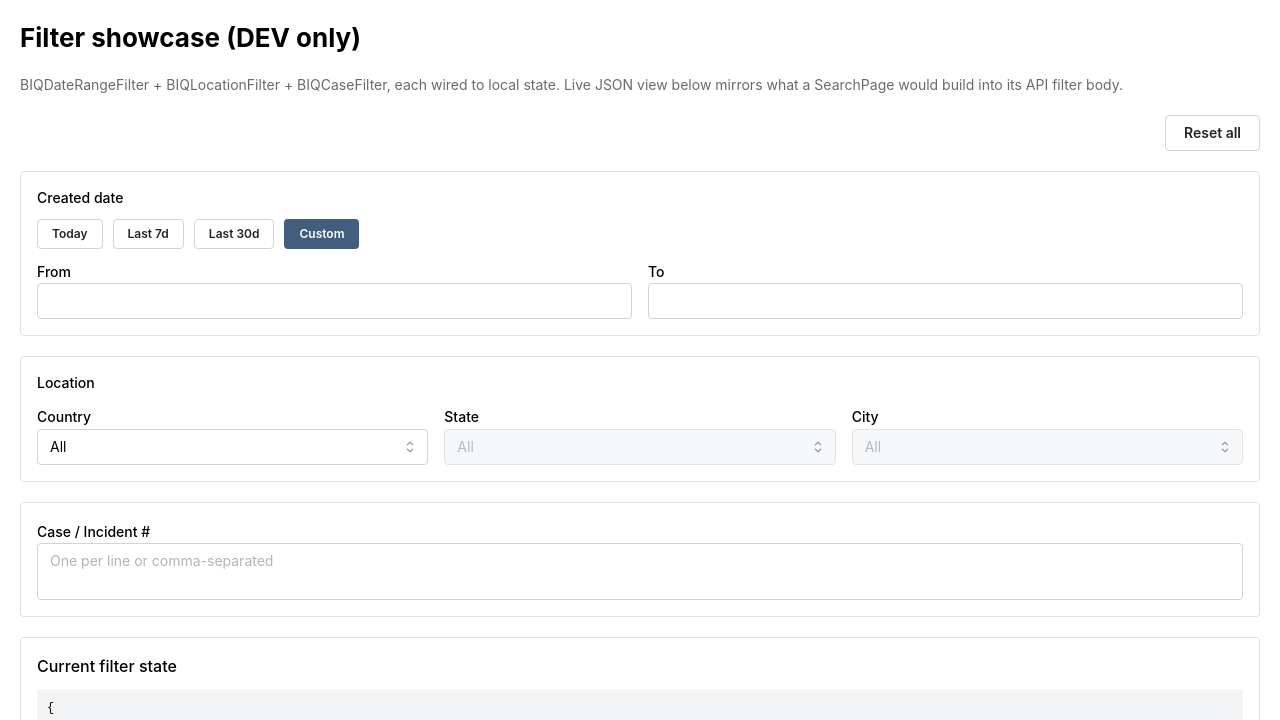
Filter showcase — 9 scenarios › BIQLocationFilter › reset clears location back to all nulls
The width and height of the screenshot is (1280, 720).
Select "United States" in the dropdown with test id "biq-location-country" at (233, 447), box [37,429,428,465]
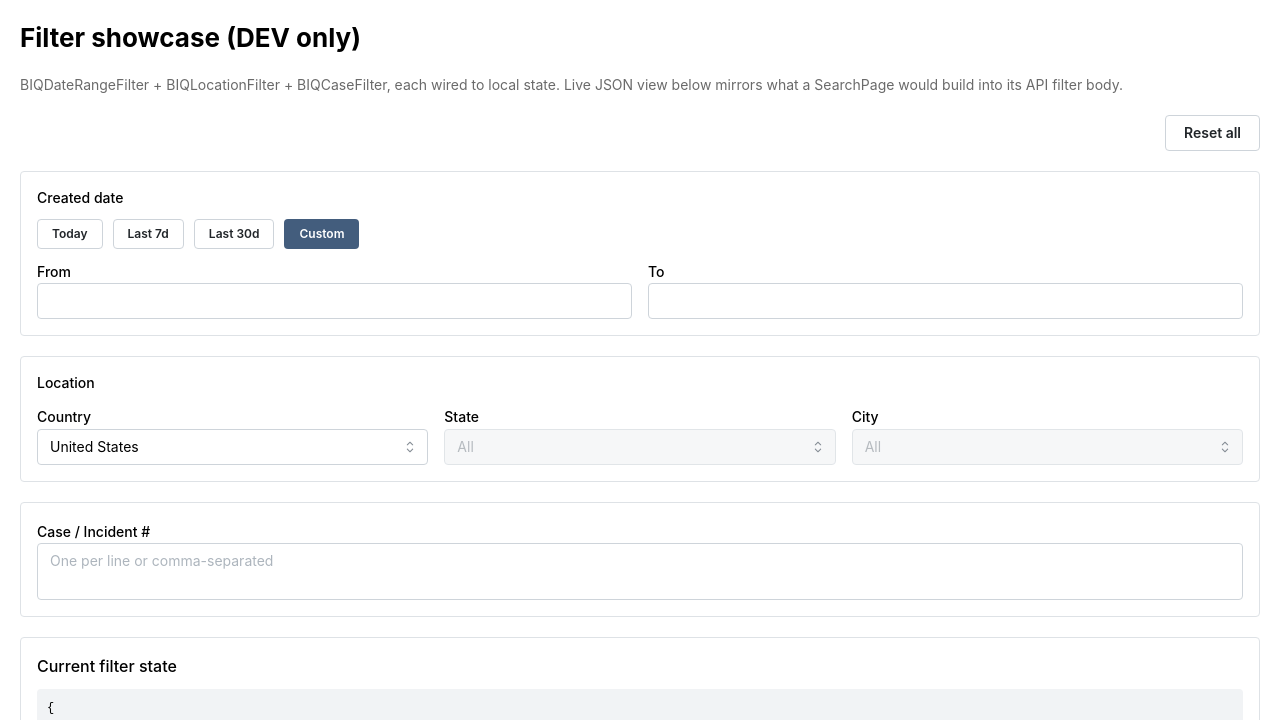
Click the button with test id "filter-showcase-reset" at (1212, 133), box [1165,115,1260,151]
(page scrolled)
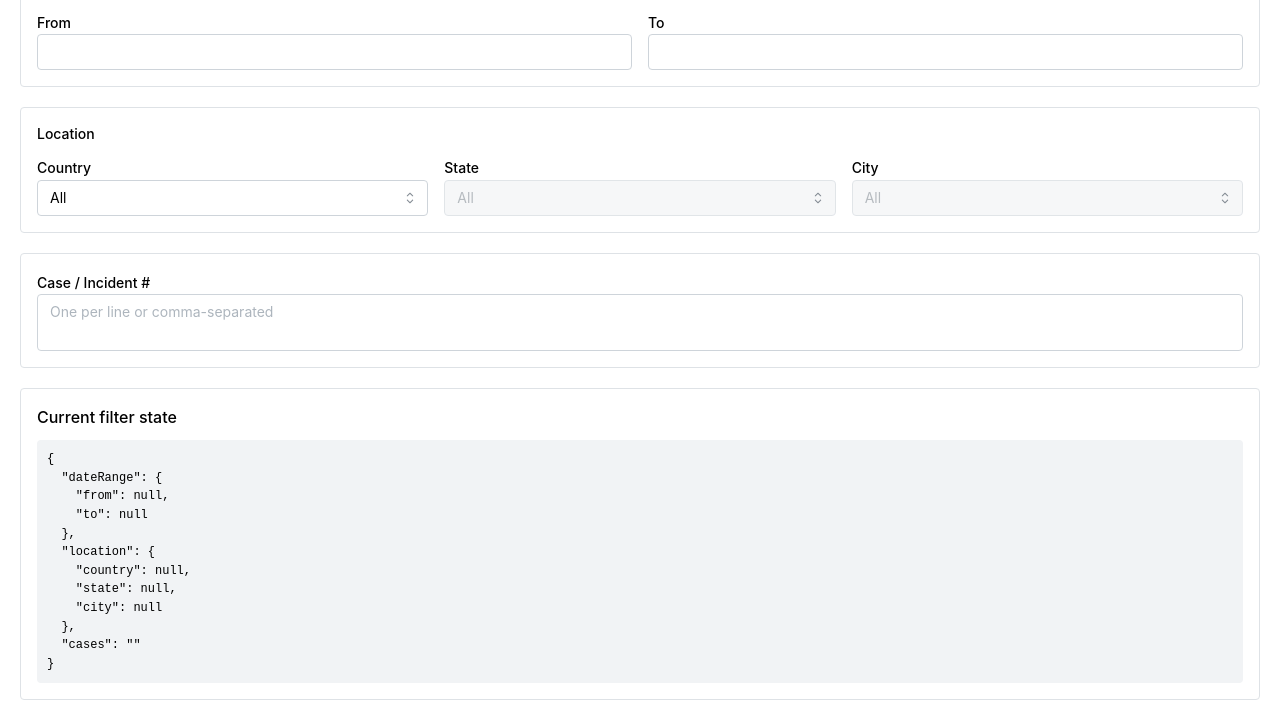
expect the text with test id "filter-showcase-state" shows "\"state\": null": met, box [47,452,191,671]
expect the text with test id "filter-showcase-state" shows "\"country\": null": met, box [47,452,191,671]
